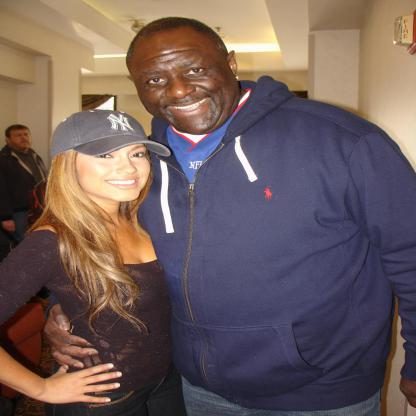face: (130, 45, 231, 132), (76, 139, 151, 202), (13, 129, 36, 150)
